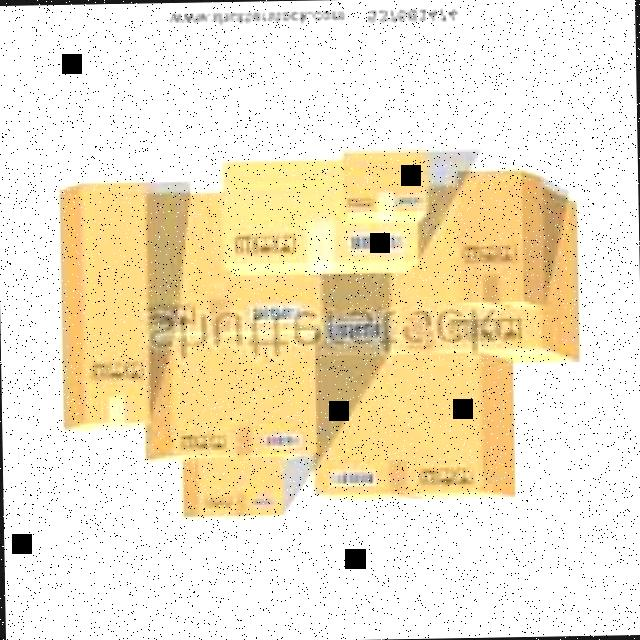cardboard_box: (144, 192, 348, 461), (327, 185, 583, 358), (306, 358, 516, 501), (61, 183, 152, 436), (225, 160, 425, 272), (456, 170, 544, 302), (168, 456, 288, 524), (340, 146, 434, 217)
